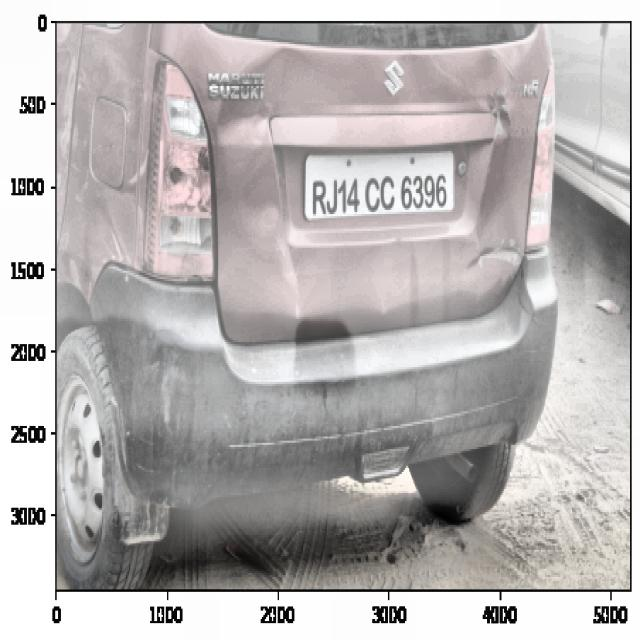license_plate: (307, 158, 450, 218)
